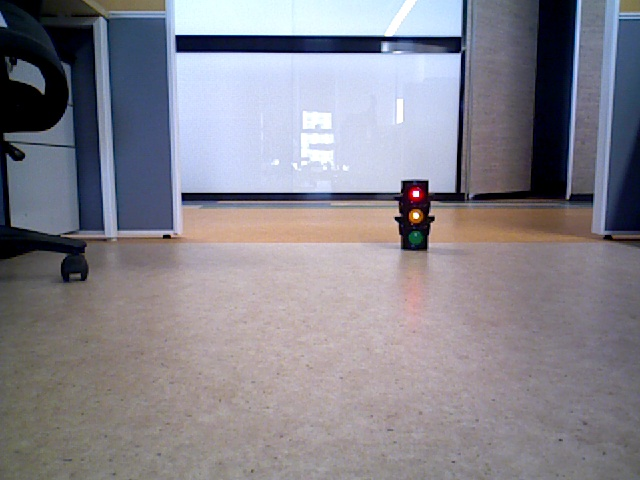red: (401, 181, 426, 246)
